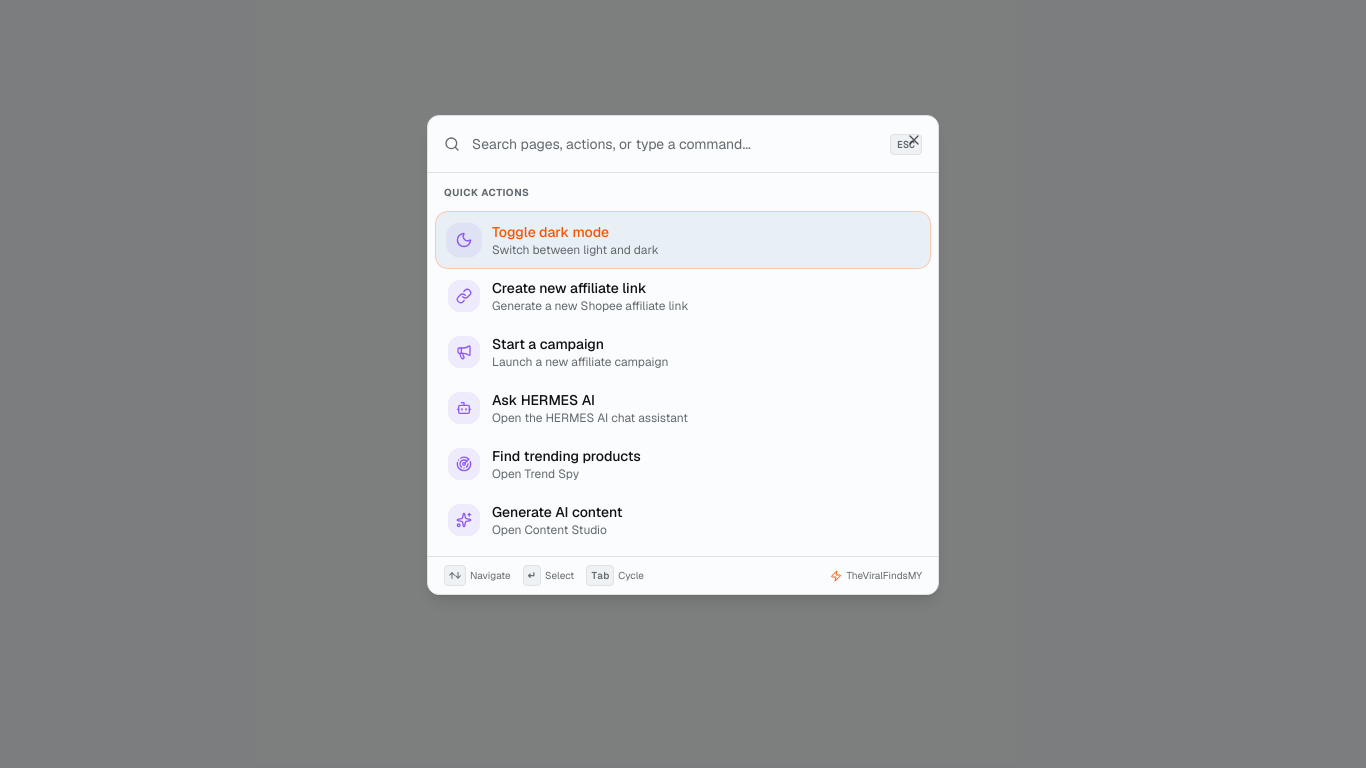
Test: CommandPalette › search filtering › shows a "No results" message for unmatched queries
Step 1. Type "zzznotfoundzzz" into the field with placeholder "Search pages, actions, or type a command..." → (675, 144), box [472,116,878,172]
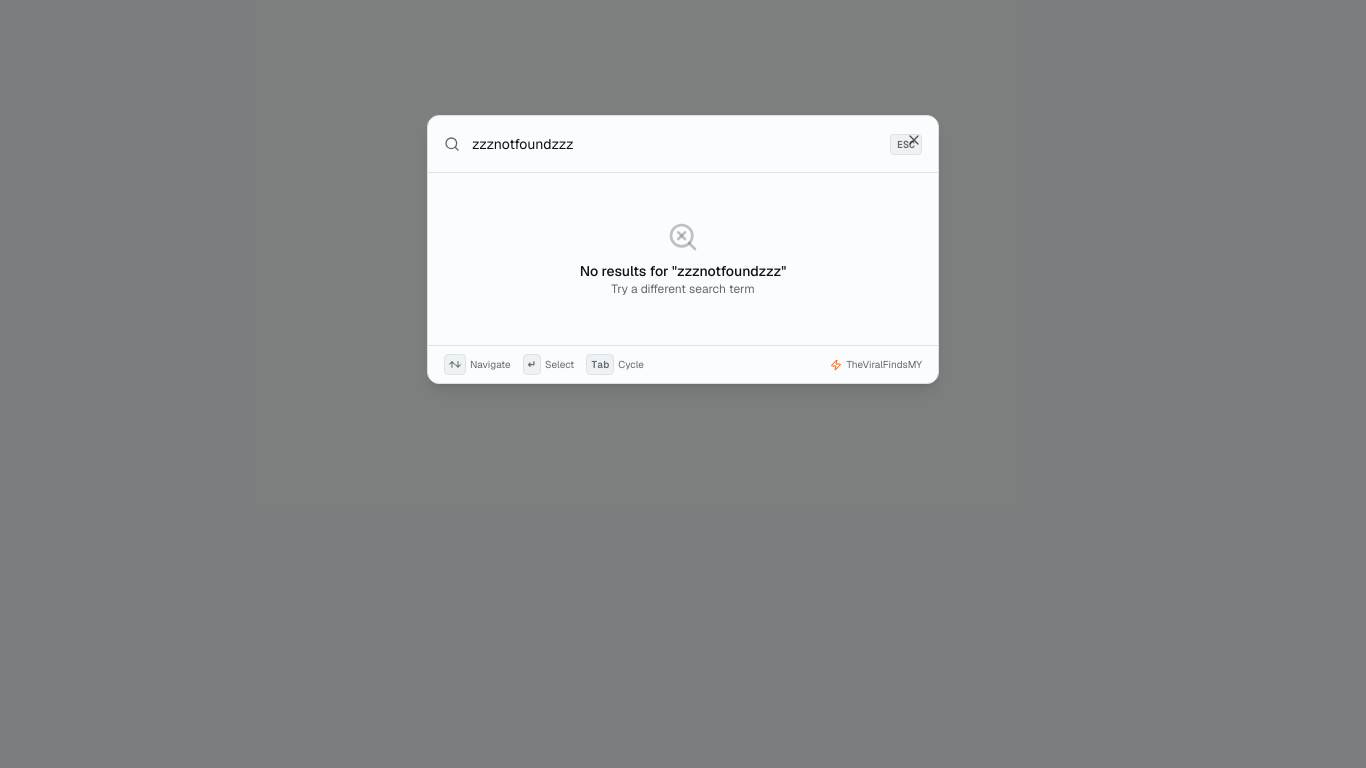
Expected: the text "No results for \"zzznotfoundzzz\"" is shown, [580,261,786,281]
